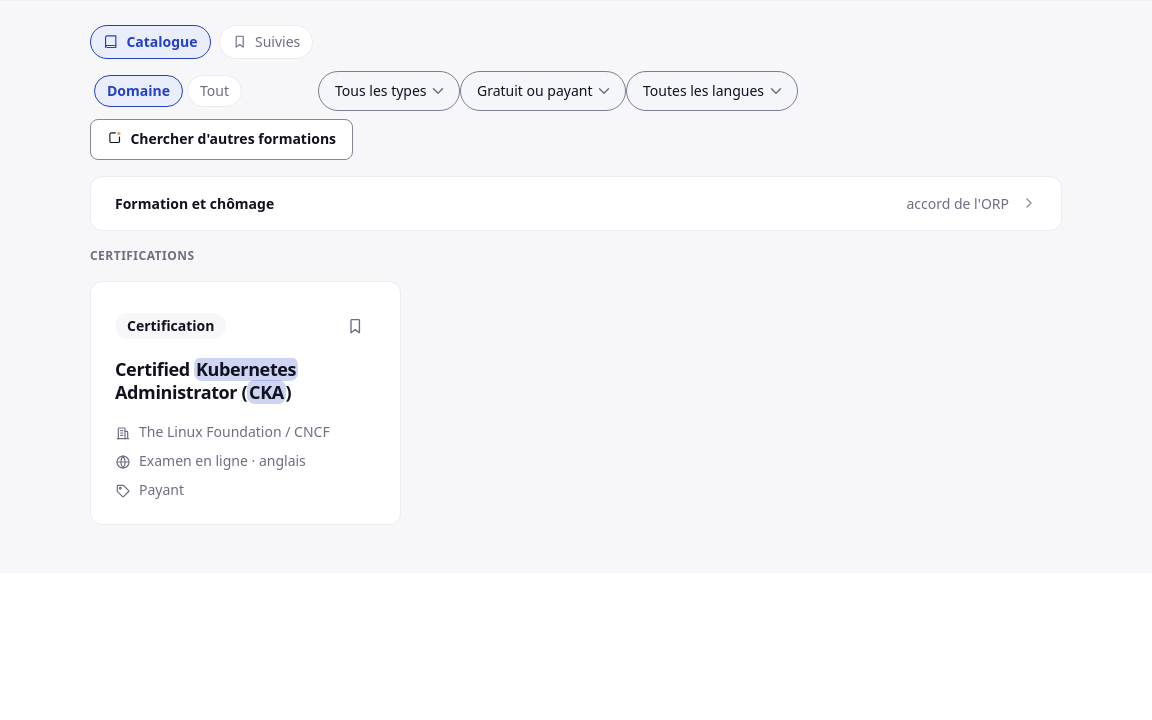
Test: TrainingsView › aucun résultat avec des filtres : une ligne grise et « Effacer les filtres » (règles §4)
Select "gratuit" in the dropdown with test id "filter-price": (543, 91) [460,71,626,111]
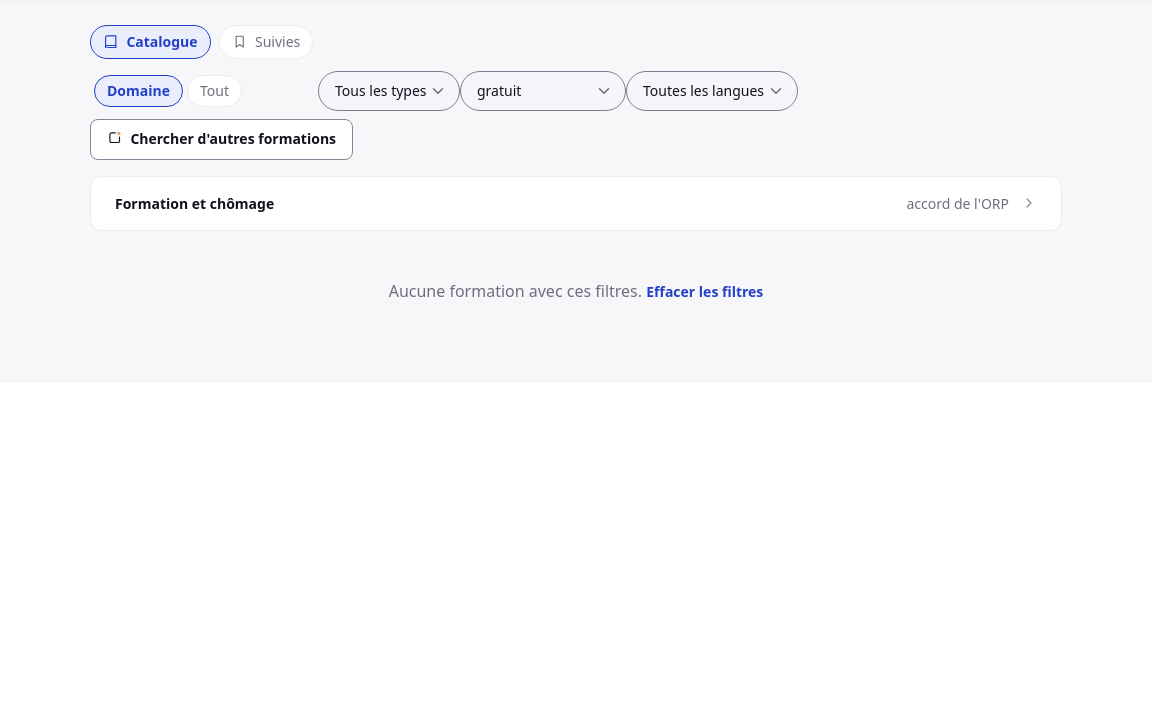
Expected: the element with test id "trainings-no-result" shows "Aucune formation avec ces filtres.", [389,280,646,302]
Click the button with test id "trainings-reset": (705, 291) [646,281,763,302]
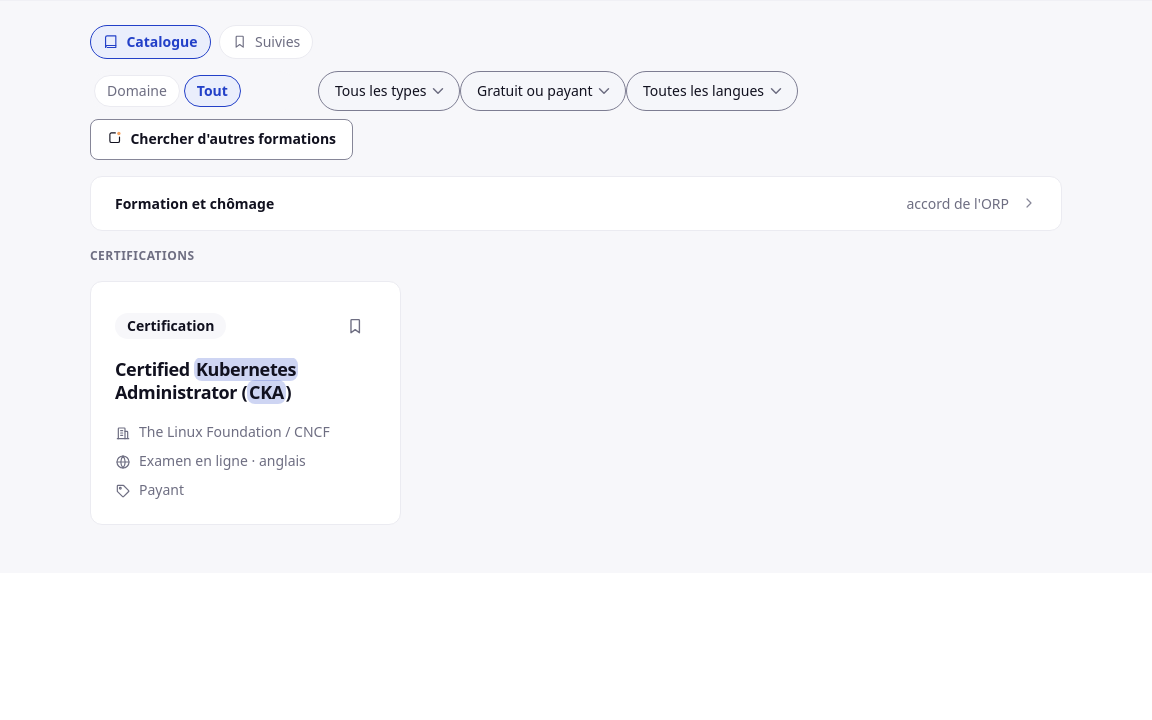
Expected: the number of list items with test id "training" is 1, [90,281,401,525]
